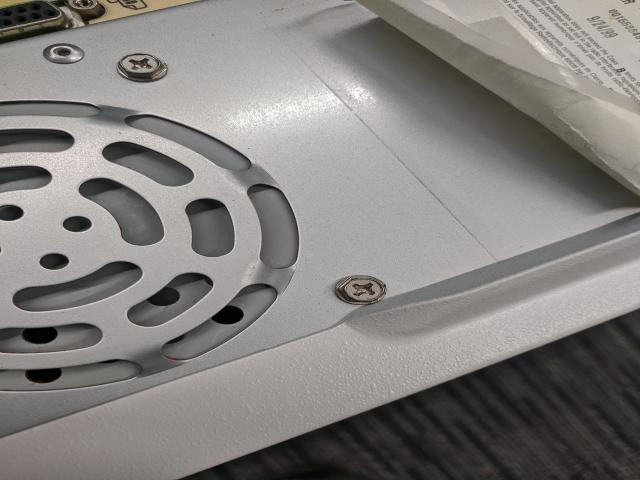CRS: (335, 274, 384, 303), (119, 54, 164, 78)
